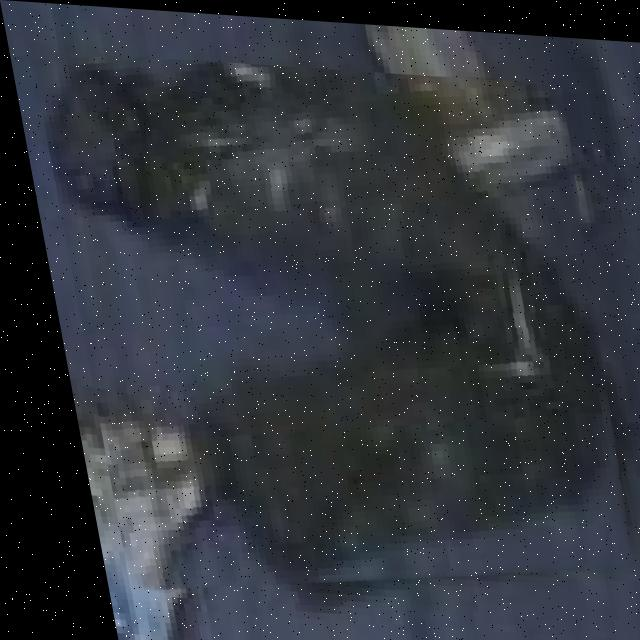plasticbottle: (29, 49, 640, 621)
